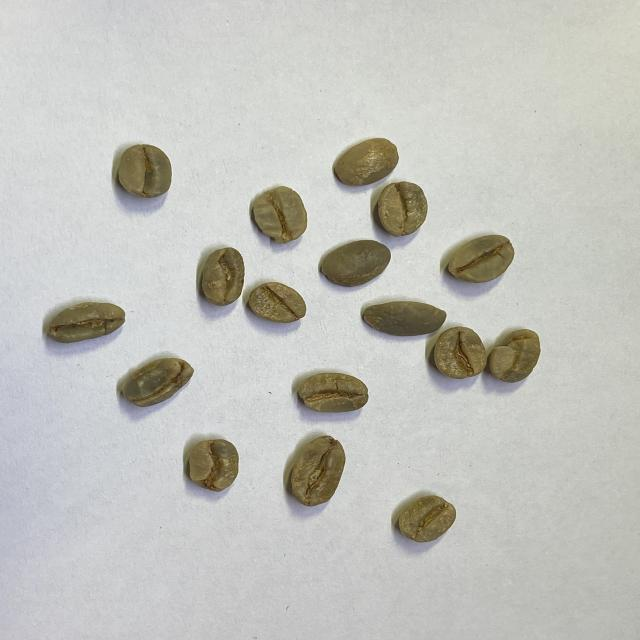bad: (122, 356, 194, 408), (251, 184, 309, 245), (48, 302, 126, 342), (187, 436, 240, 493), (490, 328, 542, 382), (199, 246, 245, 304)
good: (288, 435, 346, 507), (446, 232, 515, 285), (320, 238, 392, 288), (116, 143, 174, 199), (334, 137, 399, 186), (362, 301, 447, 336), (433, 326, 488, 380), (377, 181, 429, 237), (398, 495, 456, 543), (299, 372, 368, 412), (249, 282, 307, 324)
